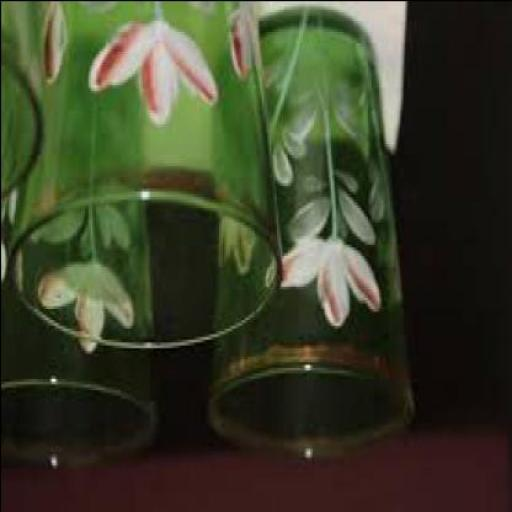glass: (6, 3, 278, 353), (202, 14, 412, 459), (0, 142, 151, 470), (1, 2, 42, 200)
